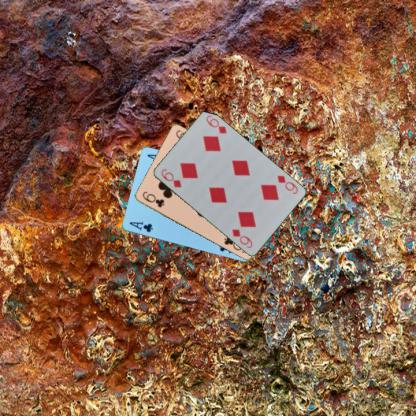6c: (140, 189, 165, 209)
6d: (158, 166, 183, 189), (274, 173, 299, 195)
Ac: (127, 219, 154, 233)
